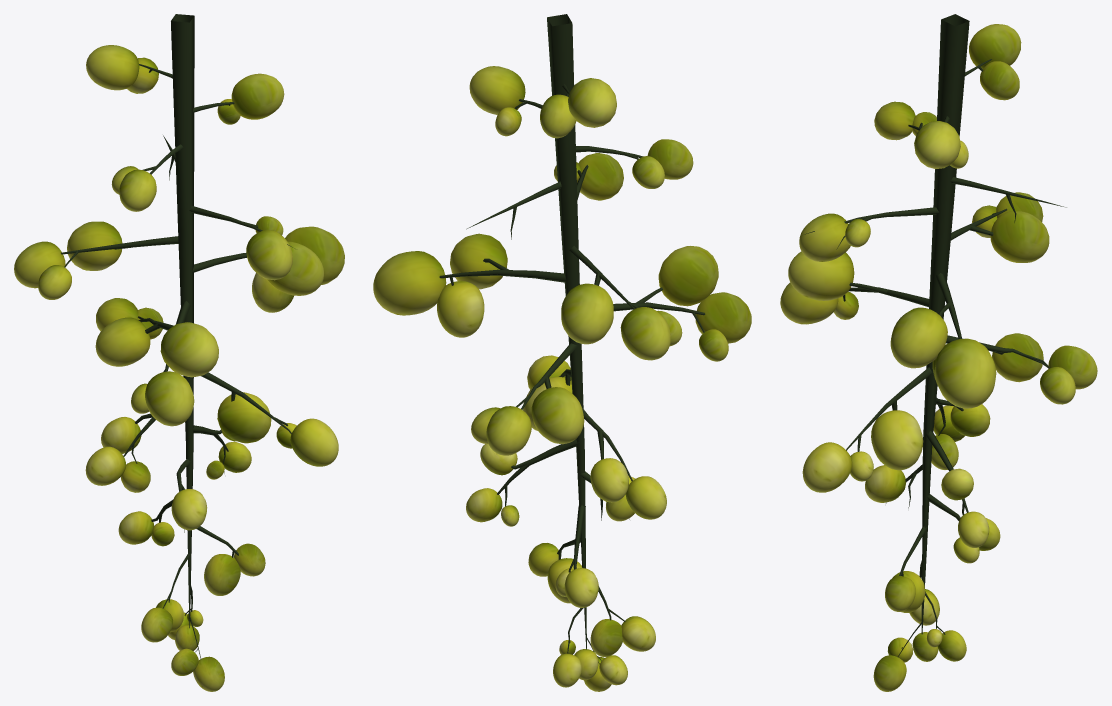
Rendered from grapes.fbx.
The picture shows the model from 3 angles, left to right: view 1: azimuth 30°, elevation 25°; view 2: azimuth 150°, elevation 25°; view 3: azimuth 270°, elevation 25°; orthographic projection. The views are drawn at different scales.
Parts seen in each view (by area): view 1: Grapes, Stem; view 2: Grapes, Stem; view 3: Grapes, Stem.
Boxes of the visible parts, x1,y1,x2,y2 form: Grapes: [14, 45, 344, 691]; Stem: [61, 14, 294, 658]; Grapes: [373, 66, 751, 691]; Stem: [439, 14, 705, 664]; Grapes: [780, 24, 1097, 691]; Stem: [804, 14, 1066, 656].
Size of the model in its own units: 0.4165 by 0.8657 by 0.3696.
